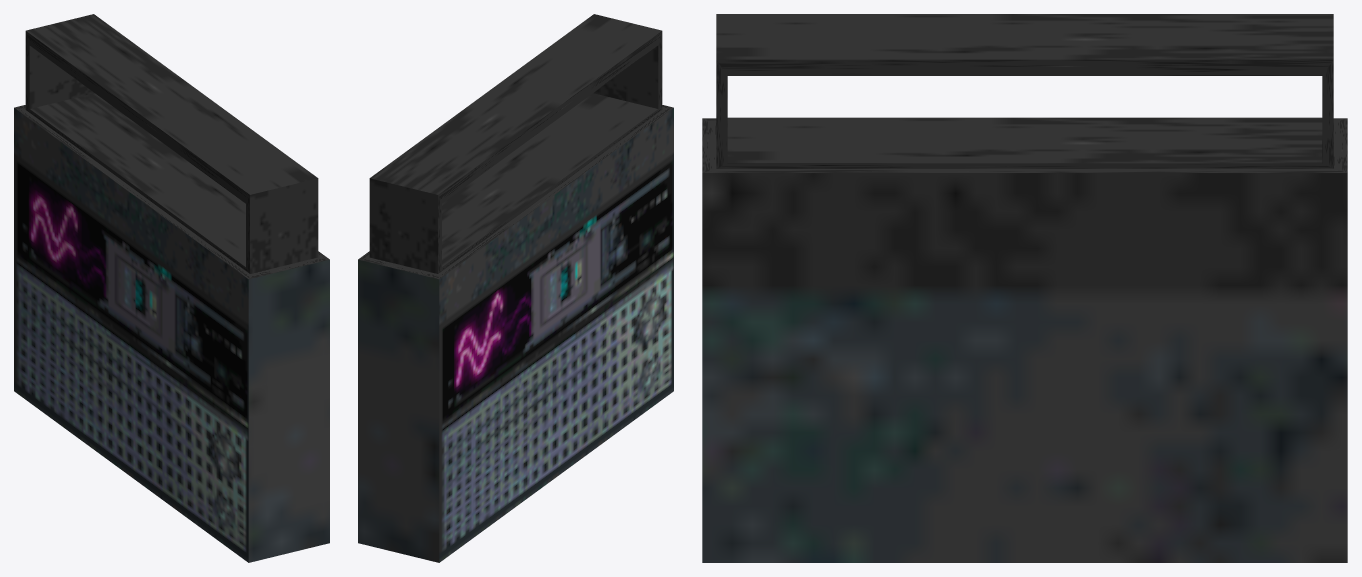
The model's file is PROP_RADIO.fbx.
3 renders of one model, left to right at view 1: azimuth 30°, elevation 25°; view 2: azimuth 150°, elevation 25°; view 3: azimuth 270°, elevation 25°, orthographic. The views are drawn at different scales.
Visible parts, largest first — view 1: Cube; view 2: Cube; view 3: Cube.
Boxes of the visible parts, bbox=[...] form: Cube: bbox=[14, 14, 329, 562]; Cube: bbox=[358, 14, 673, 562]; Cube: bbox=[702, 14, 1347, 562].
Bounding box in the file's own units: 60 × 256 × 300.
